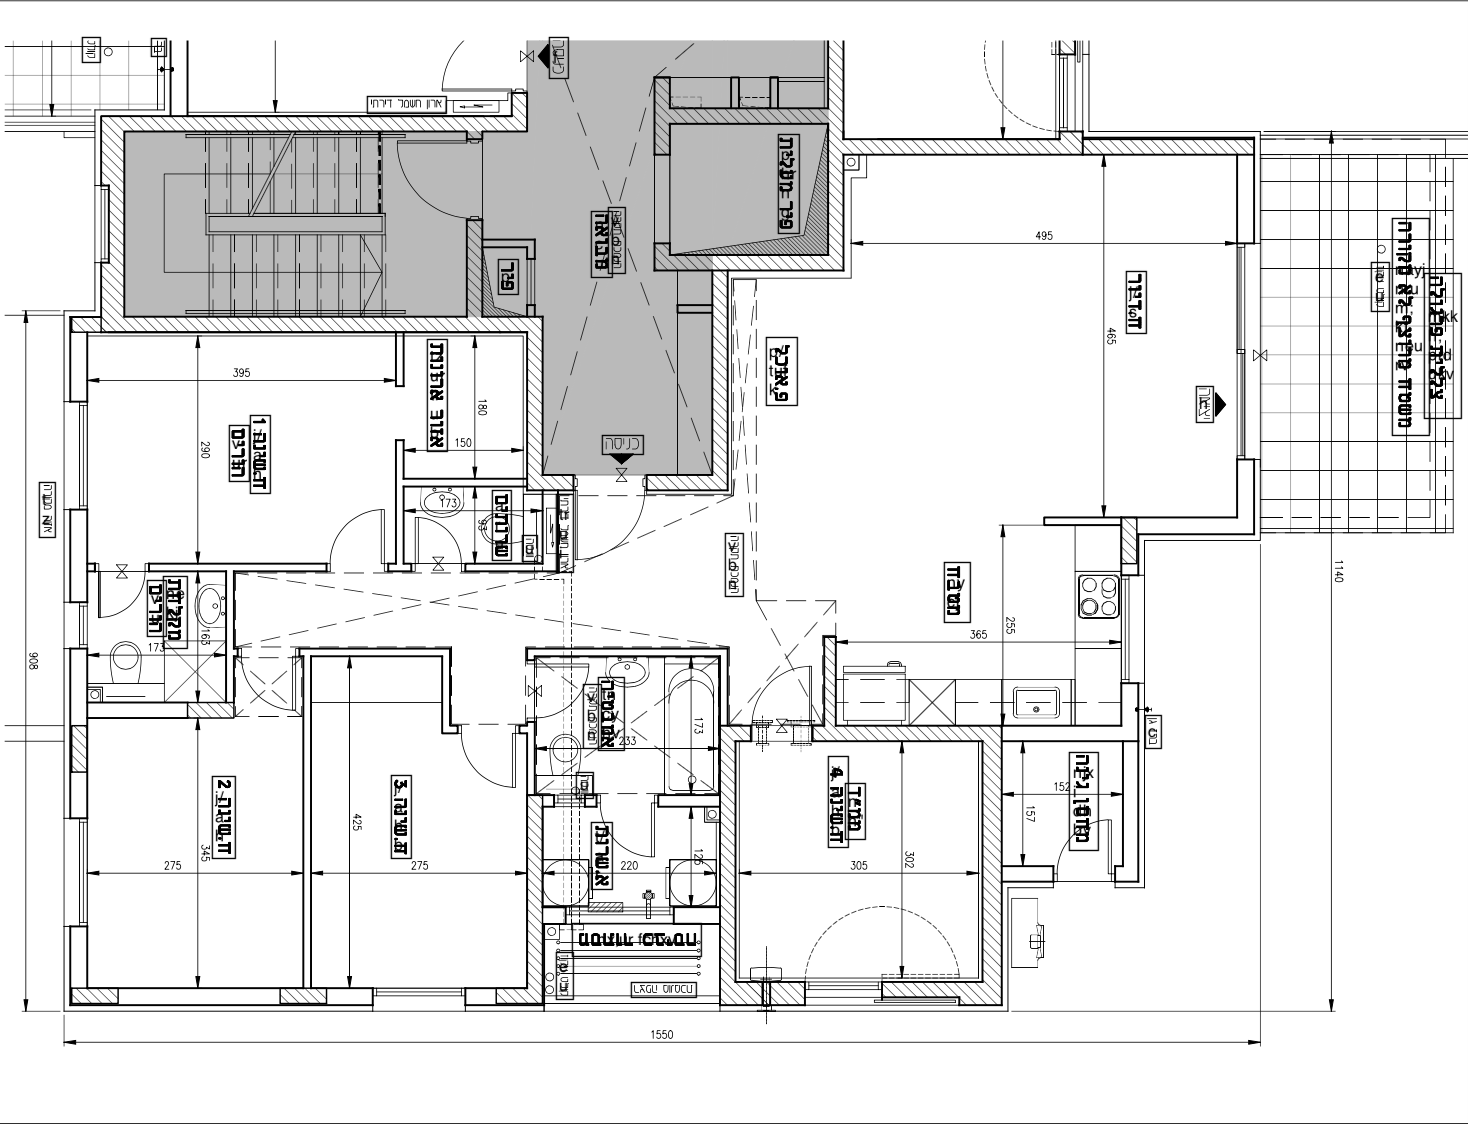door: (321, 501, 391, 562), (454, 735, 522, 796), (538, 661, 608, 721), (595, 808, 664, 869), (749, 659, 818, 720)
wall: (100, 317, 543, 331), (845, 139, 1255, 152), (717, 726, 736, 1004), (983, 726, 1001, 1004), (526, 796, 543, 1007)
window: (1234, 242, 1264, 459), (1116, 575, 1148, 685), (61, 817, 86, 926), (371, 984, 467, 1012), (64, 401, 87, 511), (95, 183, 125, 262), (63, 601, 86, 648)
